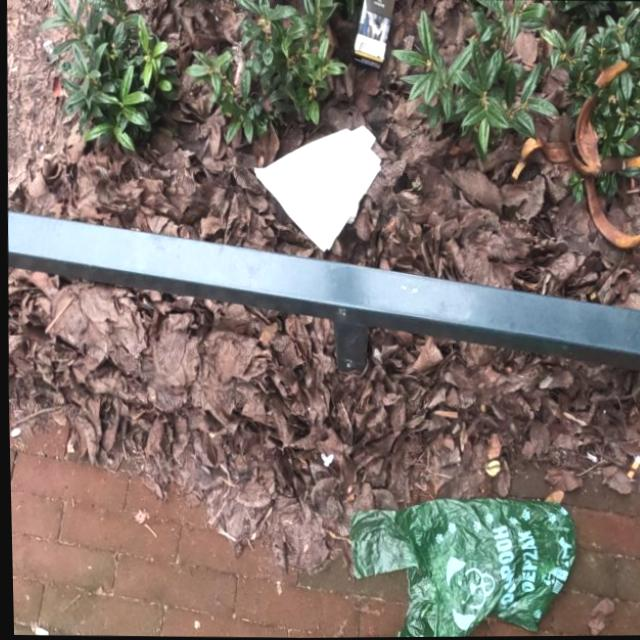Paper: (248, 123, 385, 256), (348, 0, 396, 71)
